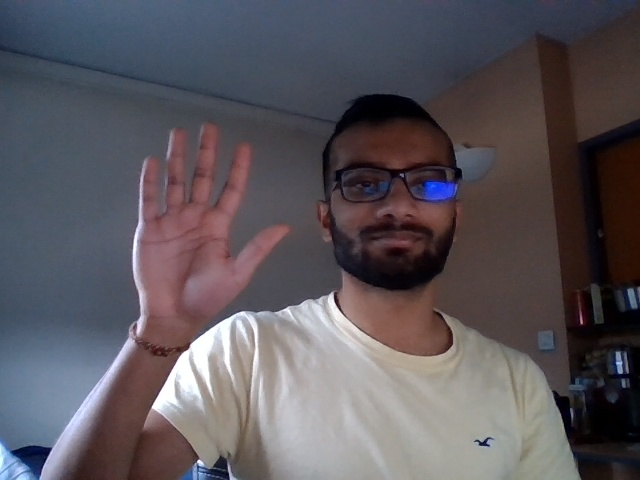Hello: (106, 110, 303, 327)
